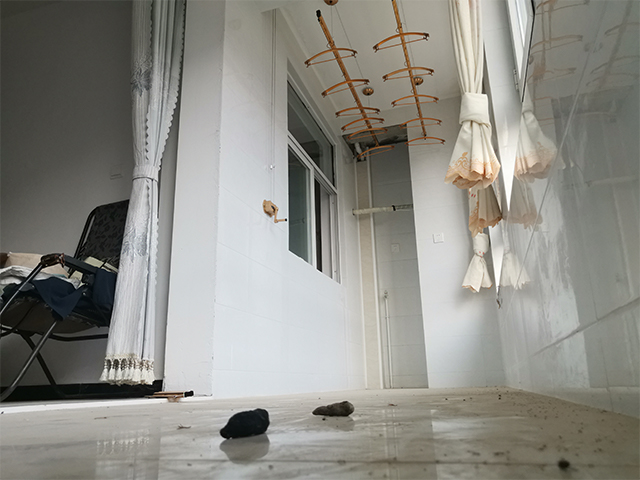curtain: (96, 1, 187, 388)
feces: (216, 407, 272, 441), (309, 399, 356, 419)
stool: (1, 198, 131, 403)
